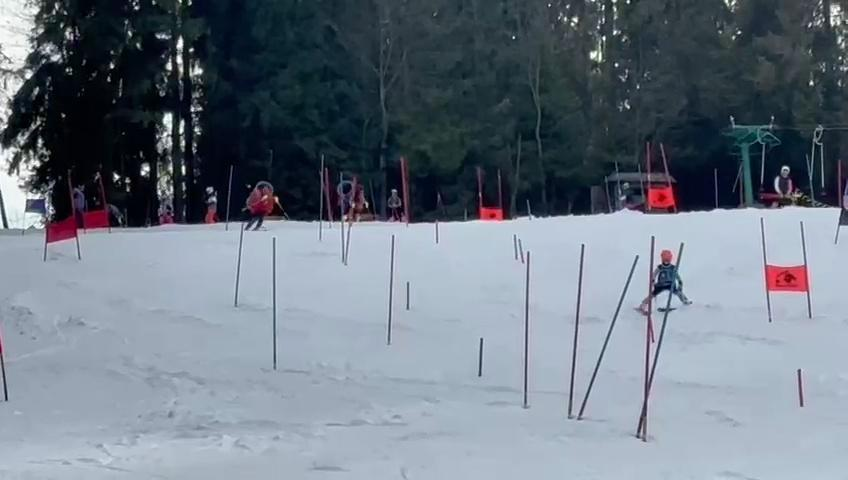gate: (633, 233, 684, 459), (580, 238, 635, 444), (516, 252, 548, 414), (263, 233, 297, 379), (747, 209, 780, 332), (568, 235, 586, 430), (795, 214, 820, 320), (232, 214, 250, 319), (661, 137, 683, 220), (64, 174, 85, 260), (384, 226, 398, 351), (396, 155, 415, 227), (642, 140, 654, 222), (468, 333, 488, 382), (797, 366, 807, 413), (401, 280, 416, 311), (428, 219, 440, 248), (510, 237, 519, 262)
